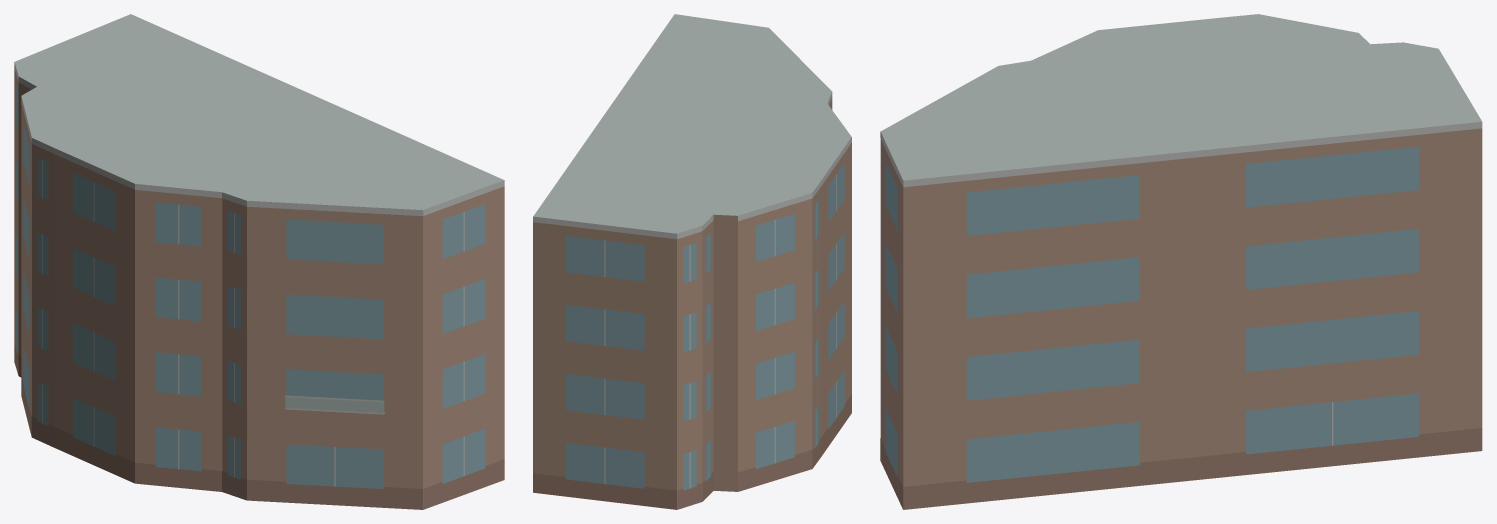
The model's file is survey-upis-32979647.glb.
3 views of the same model, side by side, from view 1: azimuth 30°, elevation 25°; view 2: azimuth 150°, elevation 25°; view 3: azimuth 270°, elevation 25° (orthographic). The views are drawn at different scales.
Parts seen in each view (by area): view 1: survey-upis-32979647.tmp; view 2: survey-upis-32979647.tmp; view 3: survey-upis-32979647.tmp.
Boxes of the visible parts, bbox=[...] form: survey-upis-32979647.tmp: bbox=[14, 14, 504, 509]; survey-upis-32979647.tmp: bbox=[533, 14, 851, 509]; survey-upis-32979647.tmp: bbox=[880, 14, 1482, 509].
Bounding box in the file's own units: 13.26 × 12.2 × 20.23.
